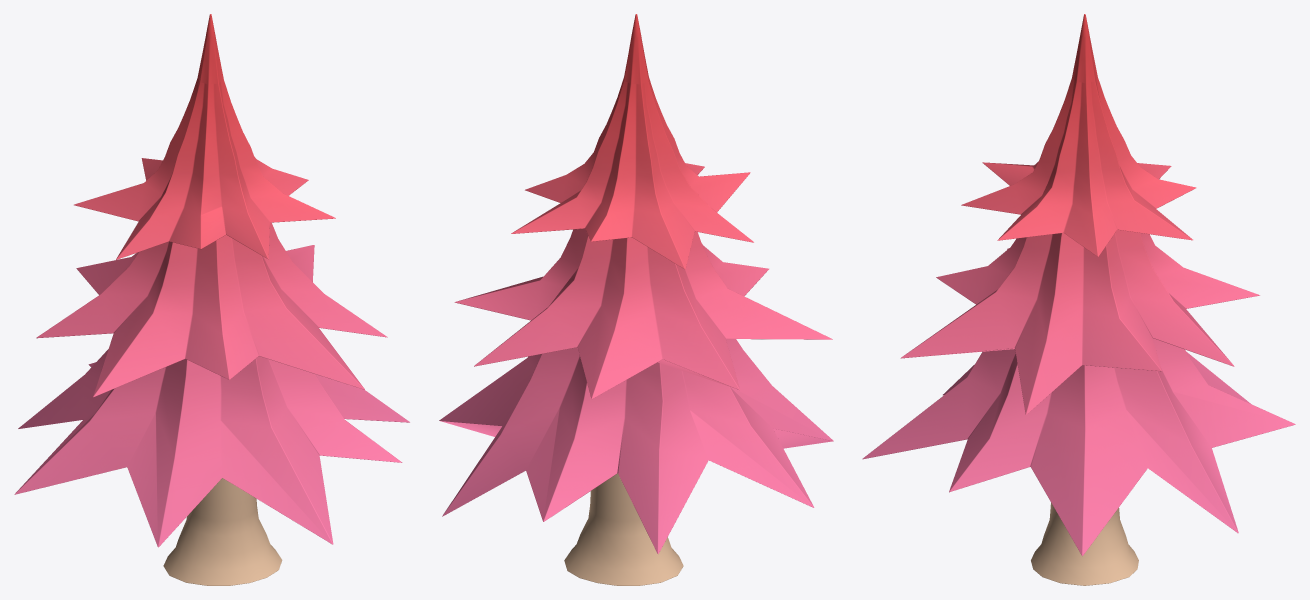
File: O_Spruce.fbx
The picture shows the model from 3 angles, left to right: view 1: azimuth 30°, elevation 25°; view 2: azimuth 150°, elevation 25°; view 3: azimuth 270°, elevation 25°; orthographic projection.
Visible parts, largest first — view 1: Spruce; view 2: Spruce; view 3: Spruce.
Part boxes in pixels (bbox=[...]): Spruce: bbox=[14, 14, 409, 585]; Spruce: bbox=[439, 14, 833, 585]; Spruce: bbox=[862, 14, 1295, 585].
Size of the model in its own units: 483 by 660 by 480.
